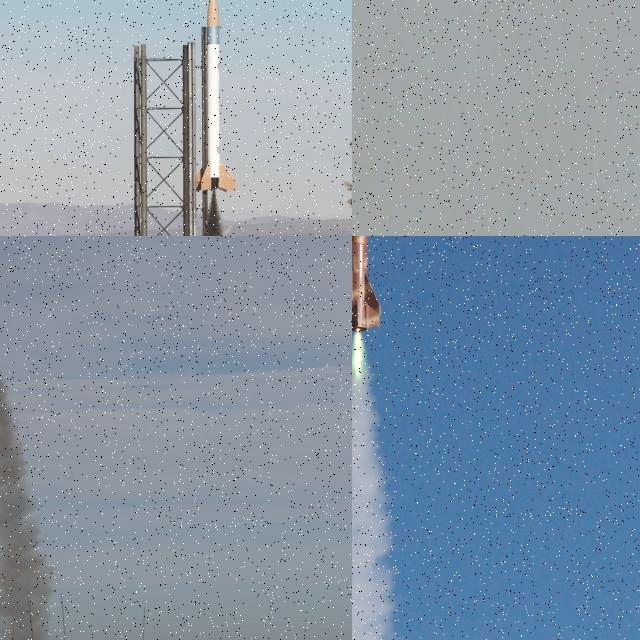Rocket: (194, 0, 236, 193), (352, 236, 383, 333)
